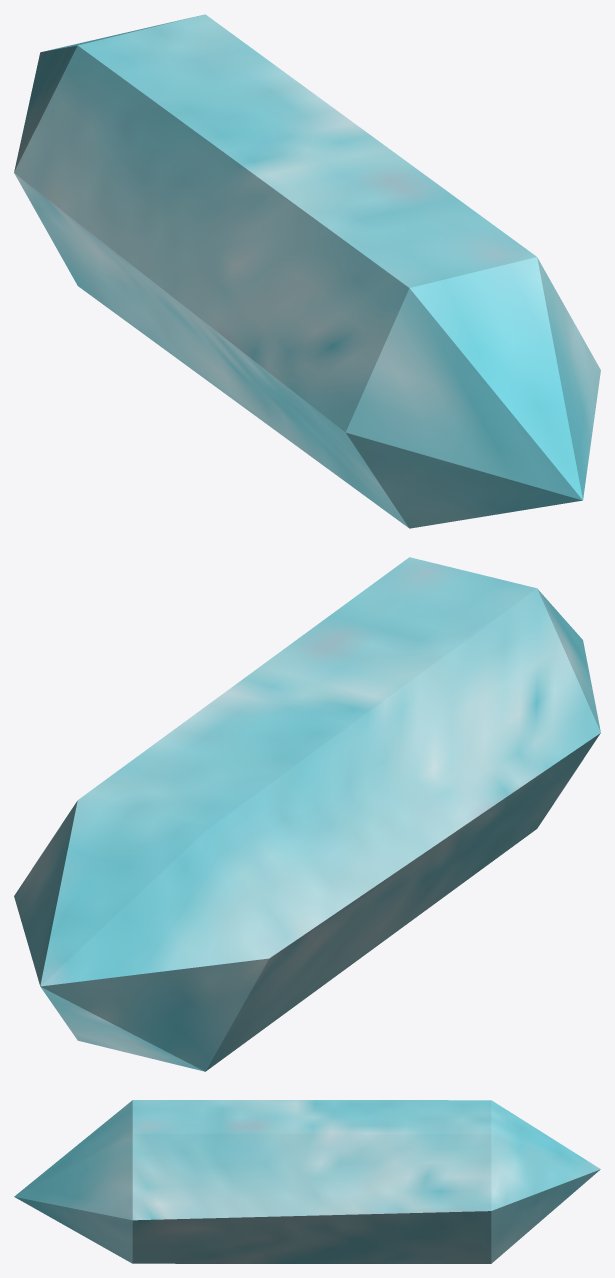
The model's file is crystalshard.obj.
3 renders of one model, top to bottom at view 1: azimuth 30°, elevation 25°; view 2: azimuth 150°, elevation 25°; view 3: azimuth 270°, elevation 25°, orthographic. The views are drawn at different scales.
Parts seen in each view (by area): view 1: Effect01; view 2: Effect01; view 3: Effect01.
Boxes of the visible parts, <box> form: Effect01: <box>14,14,600,528</box>; Effect01: <box>14,557,600,1071</box>; Effect01: <box>14,1100,600,1263</box>.
Size of the model in its own units: 0.1613 by 0.1453 by 0.5938.
